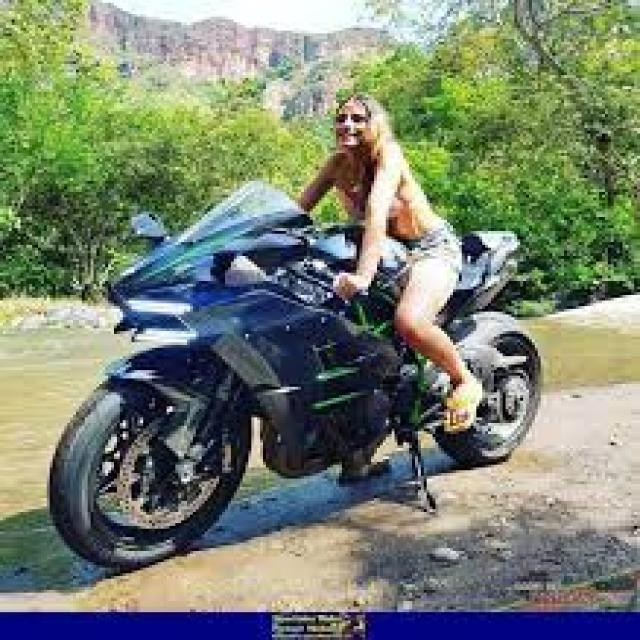Not Wearing Helmet: (303, 77, 422, 219)
